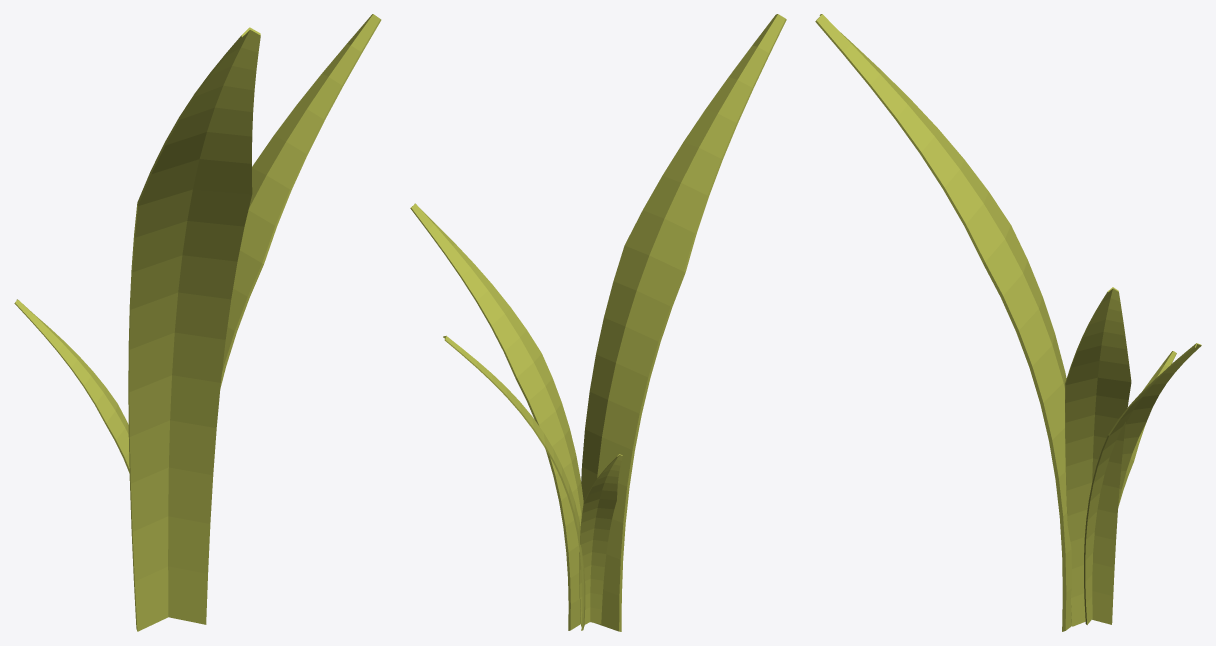
The model's file is grass_05.fbx.
3 views of the same model, side by side, from view 1: azimuth 30°, elevation 25°; view 2: azimuth 150°, elevation 25°; view 3: azimuth 270°, elevation 25° (orthographic). The views are drawn at different scales.
Parts seen in each view (by area): view 1: Cube.009; view 2: Cube.009; view 3: Cube.009.
Part boxes in pixels (x1=…): Cube.009: x1=14, y1=14, x2=381, y2=631; Cube.009: x1=410, y1=14, x2=786, y2=631; Cube.009: x1=815, y1=14, x2=1201, y2=631.
Size of the model in its own units: 36.47 by 78.74 by 47.89.
